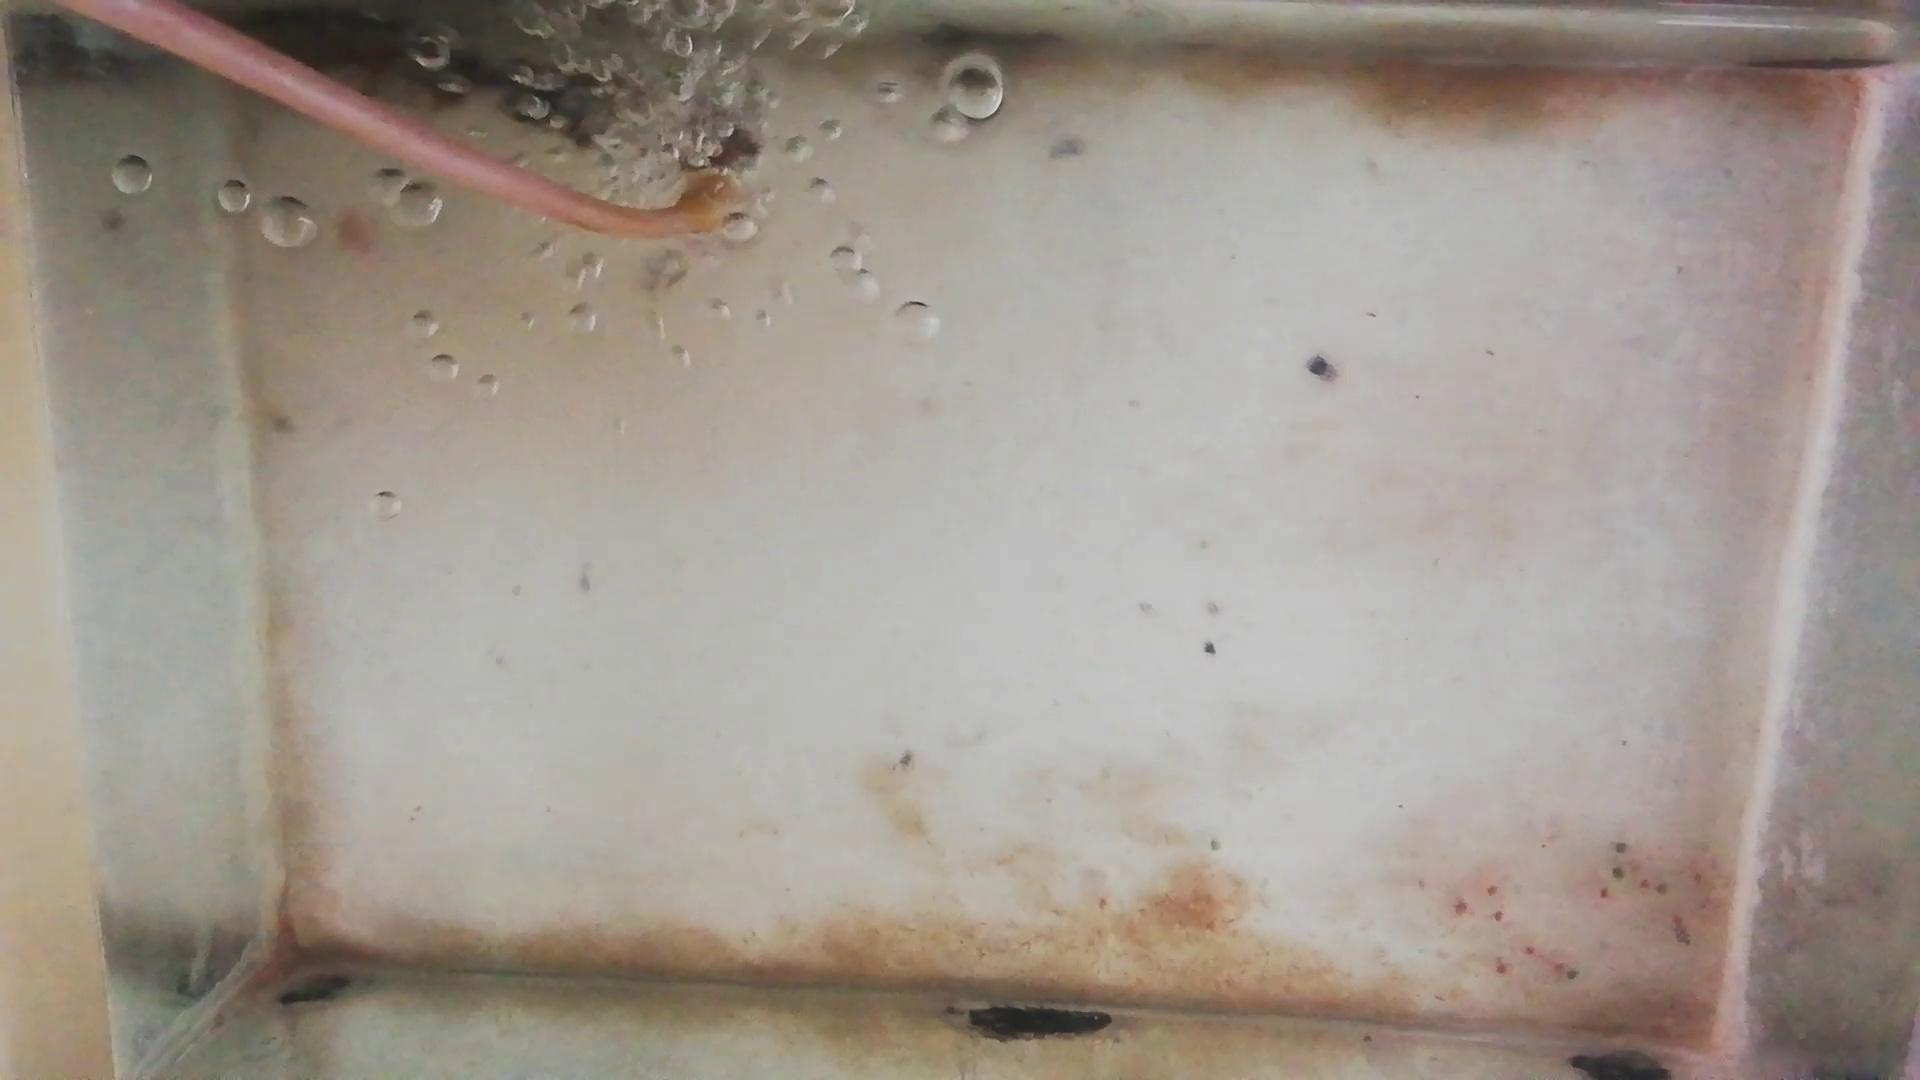fish: (411, 58, 626, 138)
